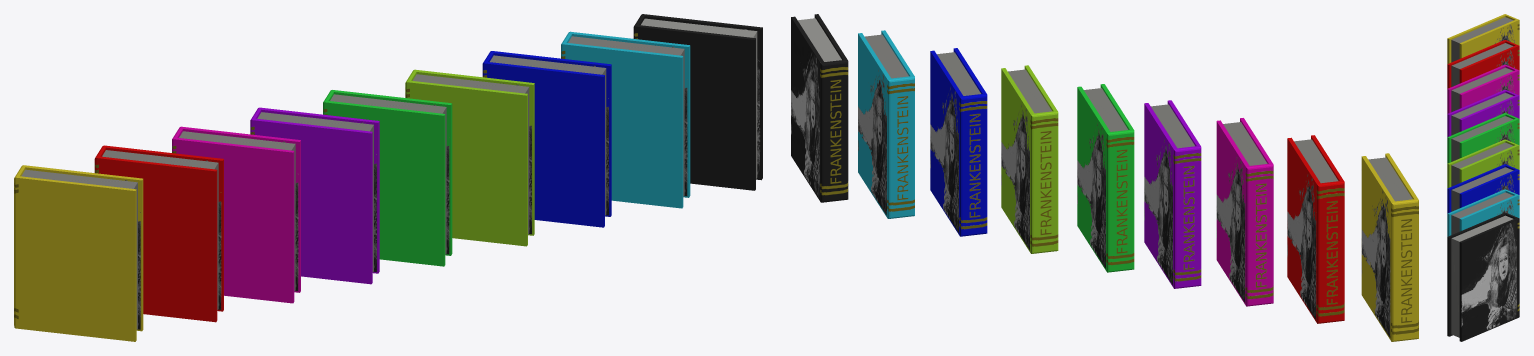
The model's file is Frankbook.glb.
The picture shows the model from 3 angles, left to right: view 1: azimuth 30°, elevation 25°; view 2: azimuth 150°, elevation 25°; view 3: azimuth 270°, elevation 25°; orthographic projection. The views are drawn at different scales.
Visible parts, largest first — view 1: 4Cube.002, 4Cube, 4Cube.001, 2Cube, 2Cube.001, 3Cube, 3Cube.001, 1orig.001, 1orig; view 2: 3Cube, 1orig.001, 1orig, 4Cube, 2Cube.001, 4Cube.002, 4Cube.001, 3Cube.001, 2Cube; view 3: 1orig, 1orig.001, 4Cube.002, 3Cube, 3Cube.001, 4Cube, 4Cube.001, 2Cube.001, 2Cube.
Part boxes in pixels (left/top/right/bottom): 4Cube.002: left=14, top=165, right=143, bottom=341; 4Cube: left=405, top=69, right=534, bottom=246; 4Cube.001: left=94, top=145, right=223, bottom=322; 2Cube: left=561, top=31, right=690, bottom=208; 2Cube.001: left=250, top=107, right=379, bottom=284; 3Cube: left=482, top=51, right=611, bottom=227; 3Cube.001: left=172, top=126, right=300, bottom=303; 1orig.001: left=323, top=90, right=452, bottom=266; 1orig: left=633, top=14, right=762, bottom=190; 3Cube: left=930, top=48, right=987, bottom=236; 1orig.001: left=1077, top=84, right=1134, bottom=272; 1orig: left=791, top=14, right=848, bottom=202; 4Cube: left=1001, top=65, right=1058, bottom=253; 2Cube.001: left=1144, top=100, right=1201, bottom=288; 4Cube.002: left=1361, top=153, right=1418, bottom=341; 4Cube.001: left=1287, top=135, right=1344, bottom=323; 3Cube.001: left=1216, top=118, right=1273, bottom=306; 2Cube: left=858, top=30, right=914, bottom=218; 1orig: left=1447, top=212, right=1519, bottom=341; 1orig.001: left=1447, top=113, right=1519, bottom=163; 4Cube.002: left=1447, top=14, right=1519, bottom=63; 3Cube: left=1447, top=164, right=1519, bottom=213; 3Cube.001: left=1447, top=64, right=1519, bottom=113; 4Cube: left=1447, top=139, right=1519, bottom=188; 4Cube.001: left=1447, top=40, right=1519, bottom=88; 2Cube.001: left=1447, top=89, right=1519, bottom=137; 2Cube: left=1447, top=189, right=1519, bottom=236.
Size of the model in its own units: 52.55 by 10.6 by 7.
9 materials, 9 textured.
